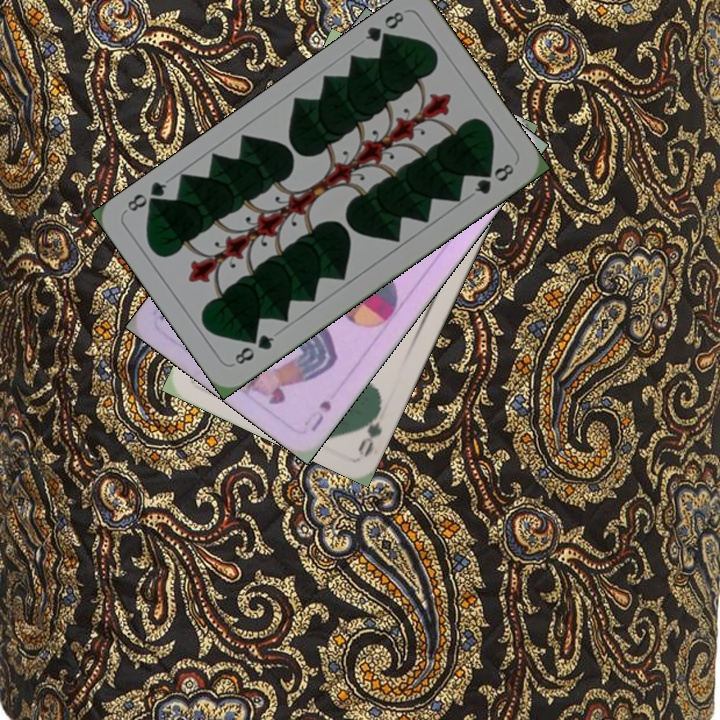G8: (361, 7, 407, 49), (230, 330, 277, 368)
GO: (354, 399, 385, 458)
SU: (299, 396, 334, 435)
